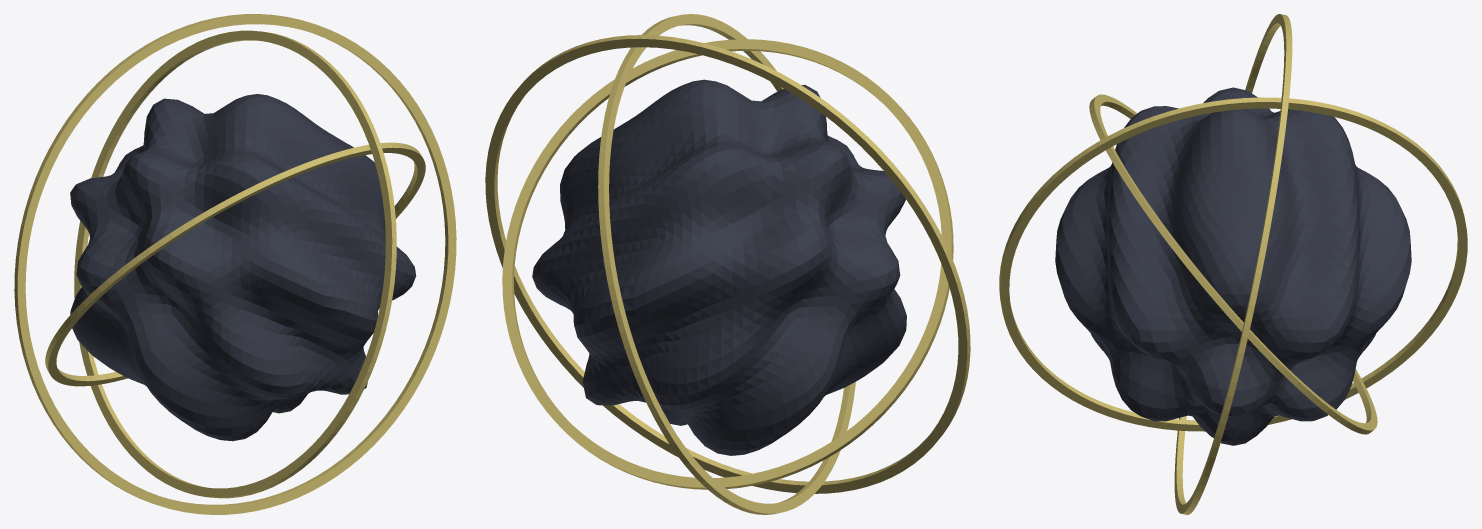
File: gpu-artifact.glb
3 renders of one model, left to right at view 1: azimuth 30°, elevation 25°; view 2: azimuth 150°, elevation 25°; view 3: azimuth 270°, elevation 25°, orthographic. The views are drawn at different scales.
Parts seen in each view (by area): view 1: 1nc0gn30_obsidian_core, 1nc0gn30_orbital_ring_2, 1nc0gn30_orbital_ring_1, 1nc0gn30_orbital_ring_0; view 2: 1nc0gn30_obsidian_core, 1nc0gn30_orbital_ring_2, 1nc0gn30_orbital_ring_0, 1nc0gn30_orbital_ring_1; view 3: 1nc0gn30_obsidian_core, 1nc0gn30_orbital_ring_1, 1nc0gn30_orbital_ring_2, 1nc0gn30_orbital_ring_0.
Part boxes in pixels (x1=…): 1nc0gn30_obsidian_core: x1=70, y1=94, x2=416, y2=441; 1nc0gn30_orbital_ring_2: x1=14, y1=14, x2=456, y2=514; 1nc0gn30_orbital_ring_1: x1=74, y1=30, x2=396, y2=498; 1nc0gn30_orbital_ring_0: x1=45, y1=142, x2=425, y2=386; 1nc0gn30_obsidian_core: x1=532, y1=79, x2=906, y2=455; 1nc0gn30_orbital_ring_2: x1=485, y1=35, x2=970, y2=493; 1nc0gn30_orbital_ring_0: x1=502, y1=39, x2=953, y2=489; 1nc0gn30_orbital_ring_1: x1=598, y1=14, x2=855, y2=514; 1nc0gn30_obsidian_core: x1=1055, y1=87, x2=1411, y2=445; 1nc0gn30_orbital_ring_1: x1=999, y1=97, x2=1467, y2=431; 1nc0gn30_orbital_ring_2: x1=1174, y1=14, x2=1292, y2=514; 1nc0gn30_orbital_ring_0: x1=1089, y1=94, x2=1377, y2=434.
Bounding box in the file's own units: 3.24 × 3.17 × 2.98.
